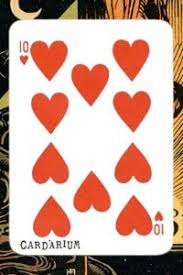ten of hearts: (7, 19, 173, 254)
